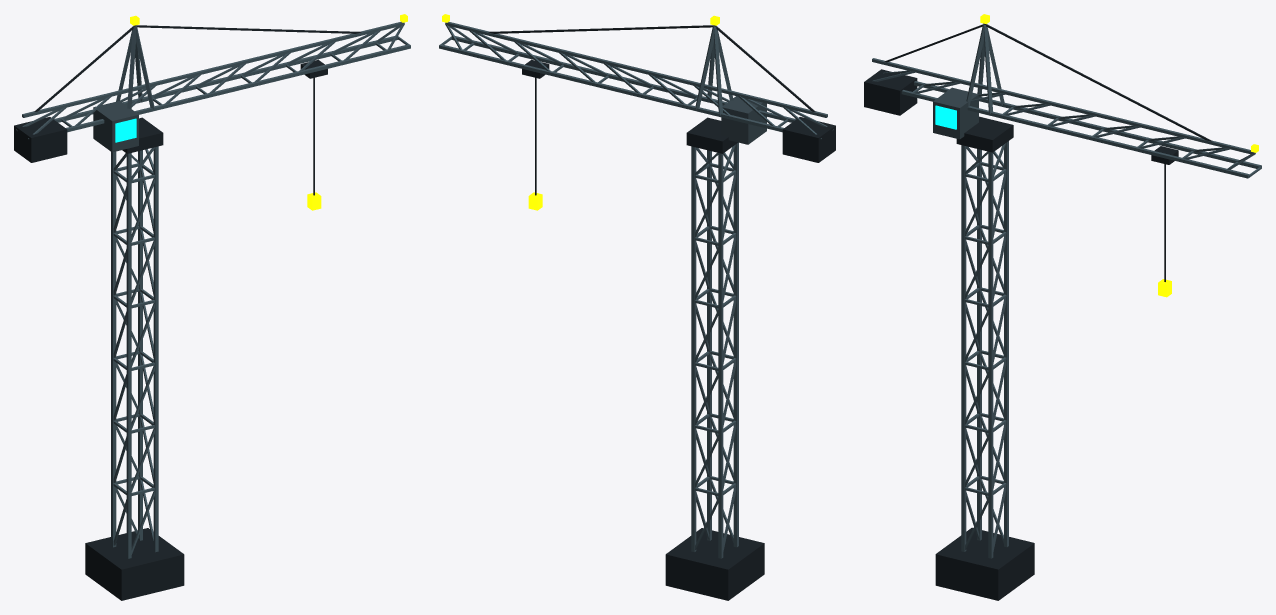
File: grua_torre.glb
The picture shows the model from 3 angles, left to right: view 1: azimuth 30°, elevation 25°; view 2: azimuth 150°, elevation 25°; view 3: azimuth 330°, elevation 25°; orthographic projection.
Parts seen in each view (by area): view 1: Grua_Torre; view 2: Grua_Torre; view 3: Grua_Torre.
Part boxes in pixels (box(x1,y1,x2,y2)): Grua_Torre: box(14, 14, 410, 600); Grua_Torre: box(439, 14, 835, 600); Grua_Torre: box(864, 14, 1261, 600).
Bounding box in the file's own units: 25.71 × 35.95 × 4.2.
